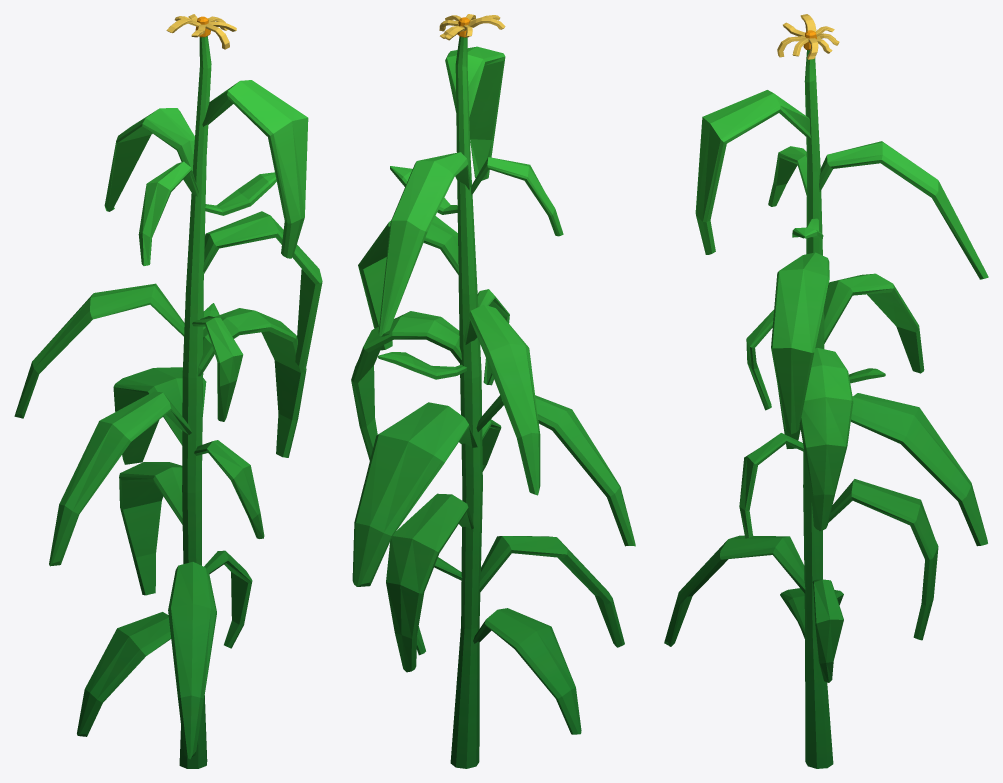
The model's file is crop_corn_stage2.glb.
3 views of the same model, side by side, from view 1: azimuth 30°, elevation 25°; view 2: azimuth 150°, elevation 25°; view 3: azimuth 270°, elevation 25° (orthographic).
Visible parts, largest first — view 1: crop_corn_stage2; view 2: crop_corn_stage2; view 3: crop_corn_stage2.
Boxes of the visible parts, <box> form: crop_corn_stage2: <box>14,14,322,768</box>; crop_corn_stage2: <box>351,14,635,768</box>; crop_corn_stage2: <box>664,14,988,768</box>.
Bounding box in the file's own units: 0.301 × 0.8 × 0.3191.
Materials: 1 (1 with a texture image).
